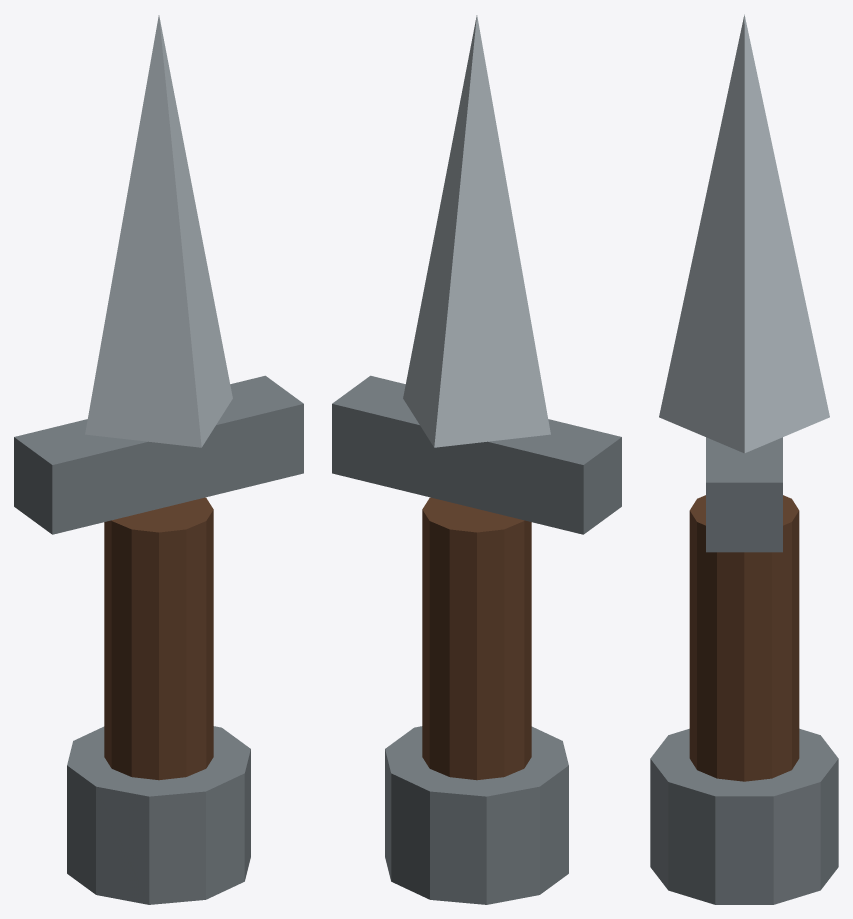
The model's file is dagger.glb.
The picture shows the model from 3 angles, left to right: view 1: azimuth 30°, elevation 25°; view 2: azimuth 150°, elevation 25°; view 3: azimuth 270°, elevation 25°; orthographic projection.
Parts seen in each view (by area): view 1: tapered_blade, leather_grip, pommel, crossguard; view 2: tapered_blade, leather_grip, pommel, crossguard; view 3: tapered_blade, leather_grip, pommel, crossguard.
Part boxes in pixels (x1,y1,x2,y2): tapered_blade: [85, 15, 232, 447]; leather_grip: [104, 497, 213, 780]; pommel: [67, 726, 250, 904]; crossguard: [14, 375, 303, 534]; tapered_blade: [403, 15, 550, 447]; leather_grip: [422, 497, 531, 780]; pommel: [385, 726, 568, 904]; crossguard: [332, 375, 621, 534]; tapered_blade: [659, 14, 829, 453]; leather_grip: [689, 495, 799, 781]; pommel: [650, 728, 838, 904]; crossguard: [706, 437, 782, 552].
Bounding box in the file's own units: 0.17 × 0.55 × 0.11.
